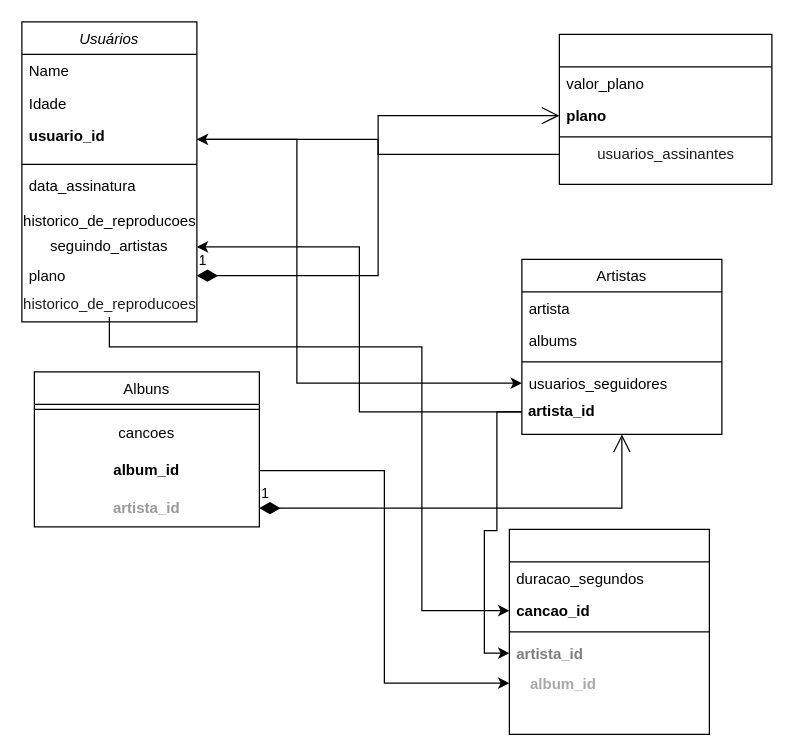
The diagram is 794 pixels wide and 756 high, and some of its shapes have lost their labels. Here are the shapes that lost their labels. From the top down, the box of each, then its label:
(558, 33, 772, 184): Planos
(508, 528, 709, 734): Canções
